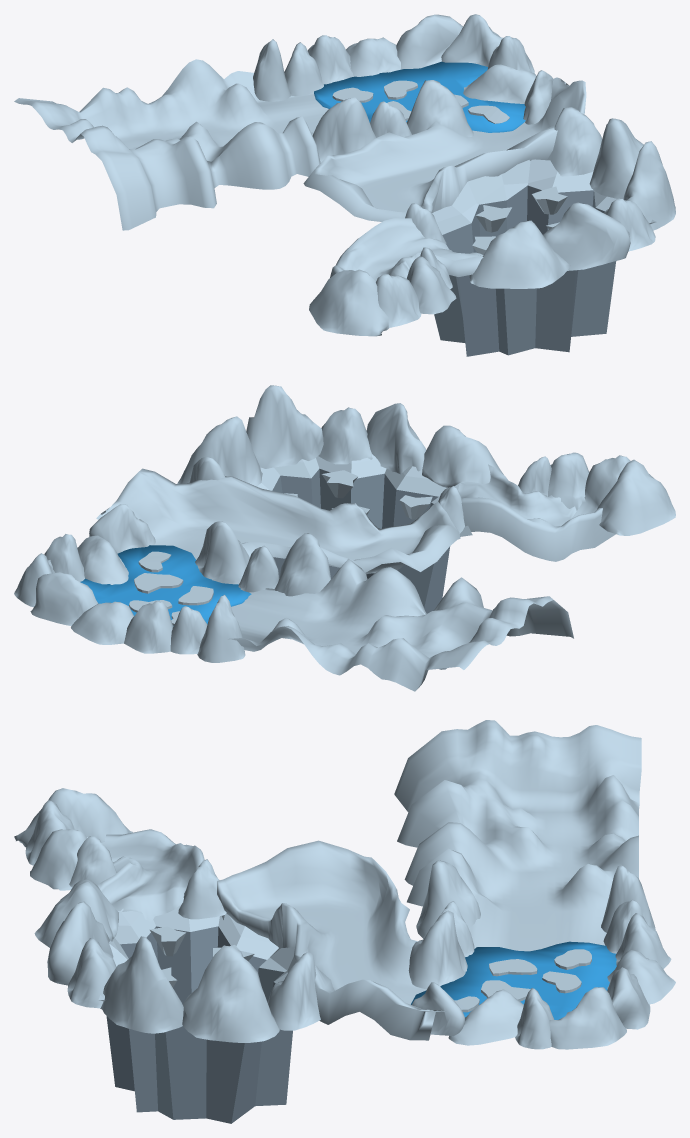
Rendered from InvernoBlocagem.fbx.
The picture shows the model from 3 angles, top to bottom: view 1: azimuth 30°, elevation 25°; view 2: azimuth 150°, elevation 25°; view 3: azimuth 270°, elevation 25°; orthographic projection. The views are drawn at different scales.
Visible parts, largest first — view 1: Circle, Circle.007, Circle.008, Circle.010; view 2: Circle, Circle.007, Circle.005, Circle.011, Circle.009, Circle.002, Circle.006; view 3: Circle, Circle.007, Circle.002, Circle.009, Circle.004.
Part boxes in pixels (x1,y1,x2,y2): Circle: (14,14,675,356); Circle.007: (314,61,525,132); Circle.008: (532,186,567,214); Circle.010: (475,205,511,232); Circle: (14,385,675,691); Circle.007: (80,545,251,624); Circle.005: (134,573,183,593); Circle.011: (321,470,358,498); Circle.009: (399,495,432,519); Circle.002: (178,586,213,605); Circle.006: (138,551,171,572); Circle: (14,720,675,1123); Circle.007: (411,941,616,1019); Circle.002: (489,959,537,976); Circle.009: (150,926,186,956); Circle.004: (542,971,581,993).
Size of the model in its own units: 18658 by 6688 by 20169.
